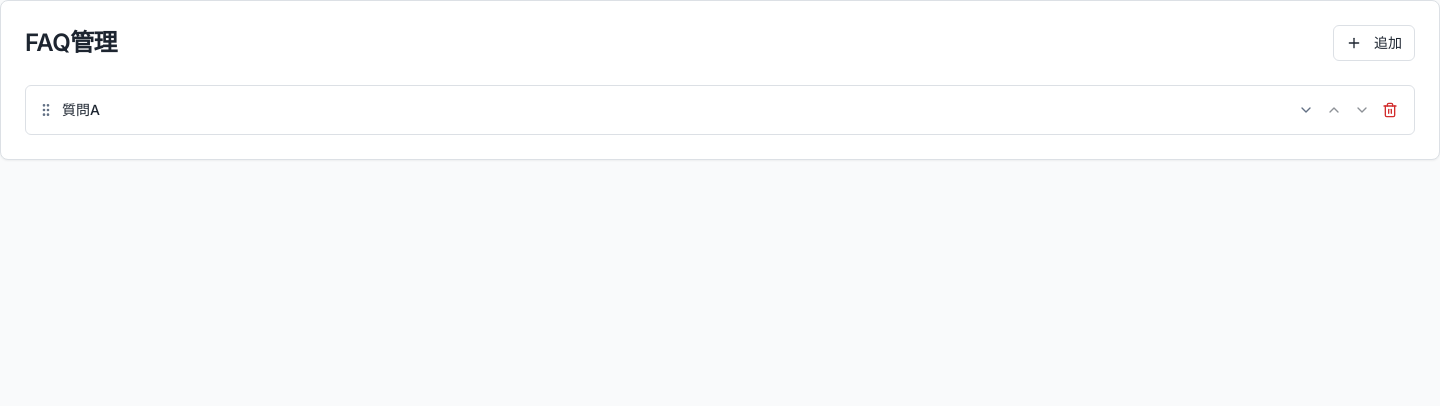
Test: FAQManager › accessibility (disclosure) › toggles aria-expanded and reveals the labelled panel on click
What coordinates should you click on to do the following:
click the button "質問A"
I would click on:
 (81, 110)
Its box is [62,100,1314,120].
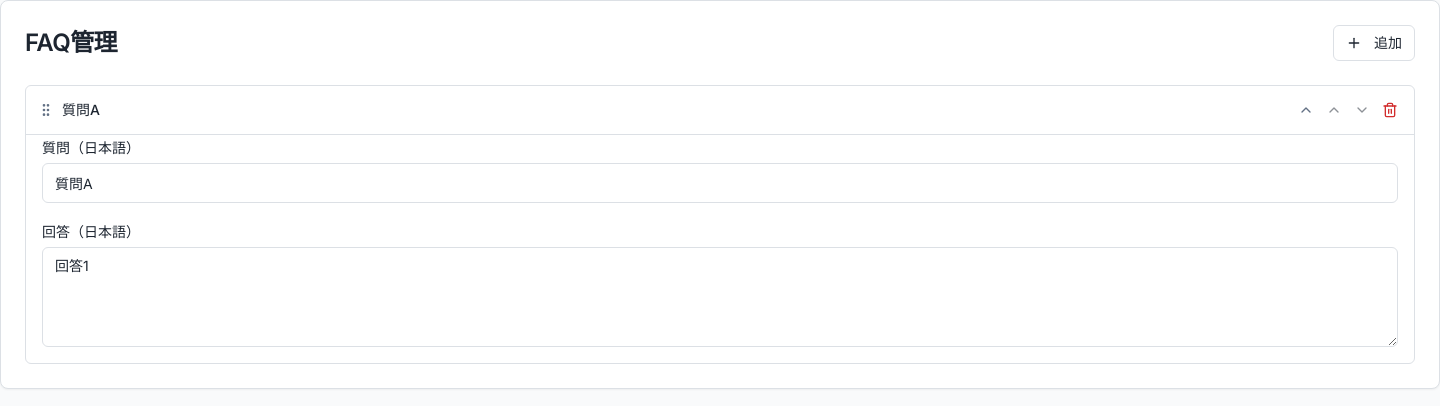
Check: the button "質問A" is expanded, box [62,100,1314,120]
